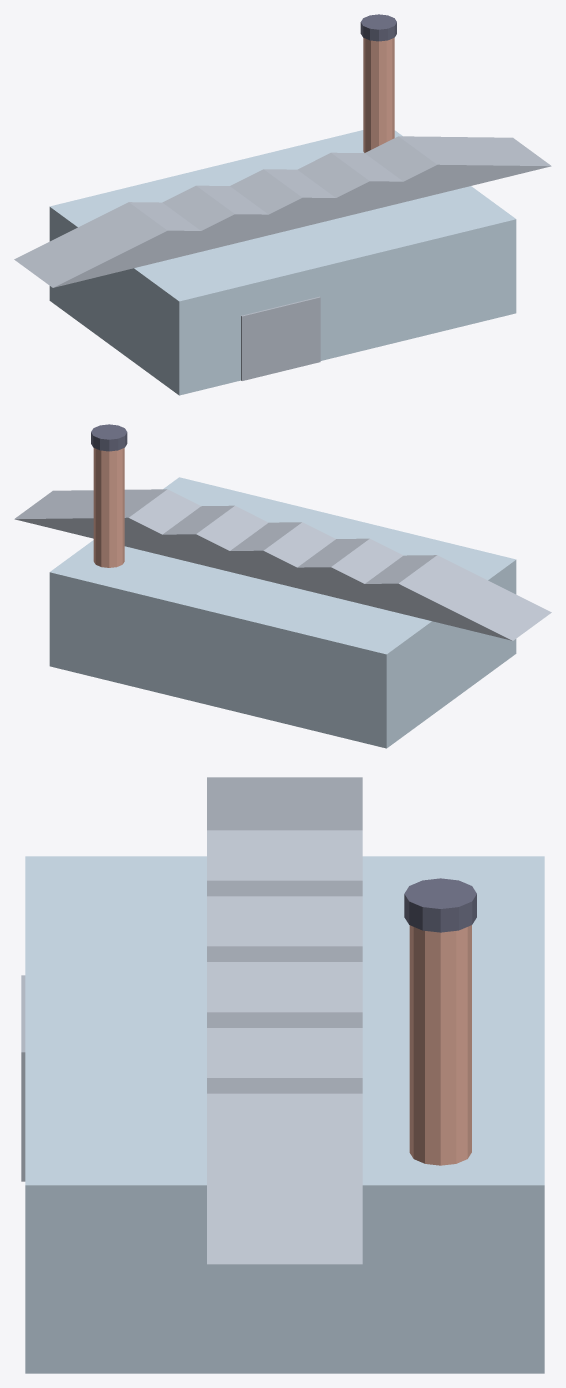
File: factory.glb
3 renders of one model, top to bottom at view 1: azimuth 30°, elevation 25°; view 2: azimuth 150°, elevation 25°; view 3: azimuth 270°, elevation 25°, orthographic. The views are drawn at different scales.
Visible parts, largest first — view 1: factory_wall_blue, factory_metal, factory_brick, factory_black; view 2: factory_wall_blue, factory_metal, factory_brick, factory_black; view 3: factory_wall_blue, factory_metal, factory_brick, factory_black.
Boxes of the visible parts, x1,y1,x2,y2 form: factory_wall_blue: (49,130,516,395); factory_metal: (14,136,551,380); factory_brick: (363,38,394,152); factory_black: (360,14,396,41); factory_wall_blue: (49,477,516,748); factory_metal: (14,489,551,640); factory_brick: (93,448,124,567); factory_black: (91,424,127,451); factory_wall_blue: (25,856,544,1373); factory_metal: (21,777,362,1264); factory_brick: (409,925,471,1165); factory_black: (404,878,476,932).
Bounding box in the file's own units: 44.4 × 19 × 20.15.
